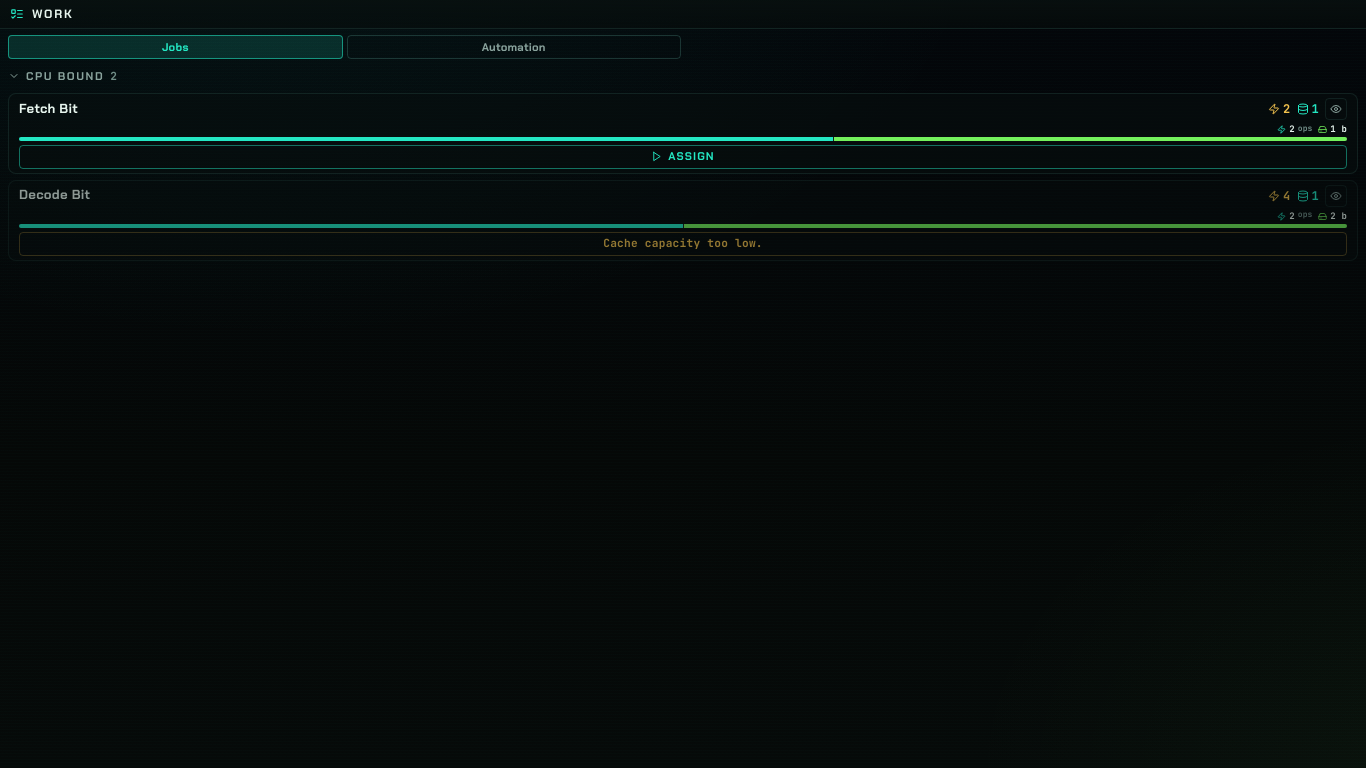
Scenario: WorkPanel › shows the status-only buffer readout and hides locked Live Ops in Automation
Click the tab with aria-label "Automation". click: (514,47)
box: left=346, top=35, right=681, bottom=59
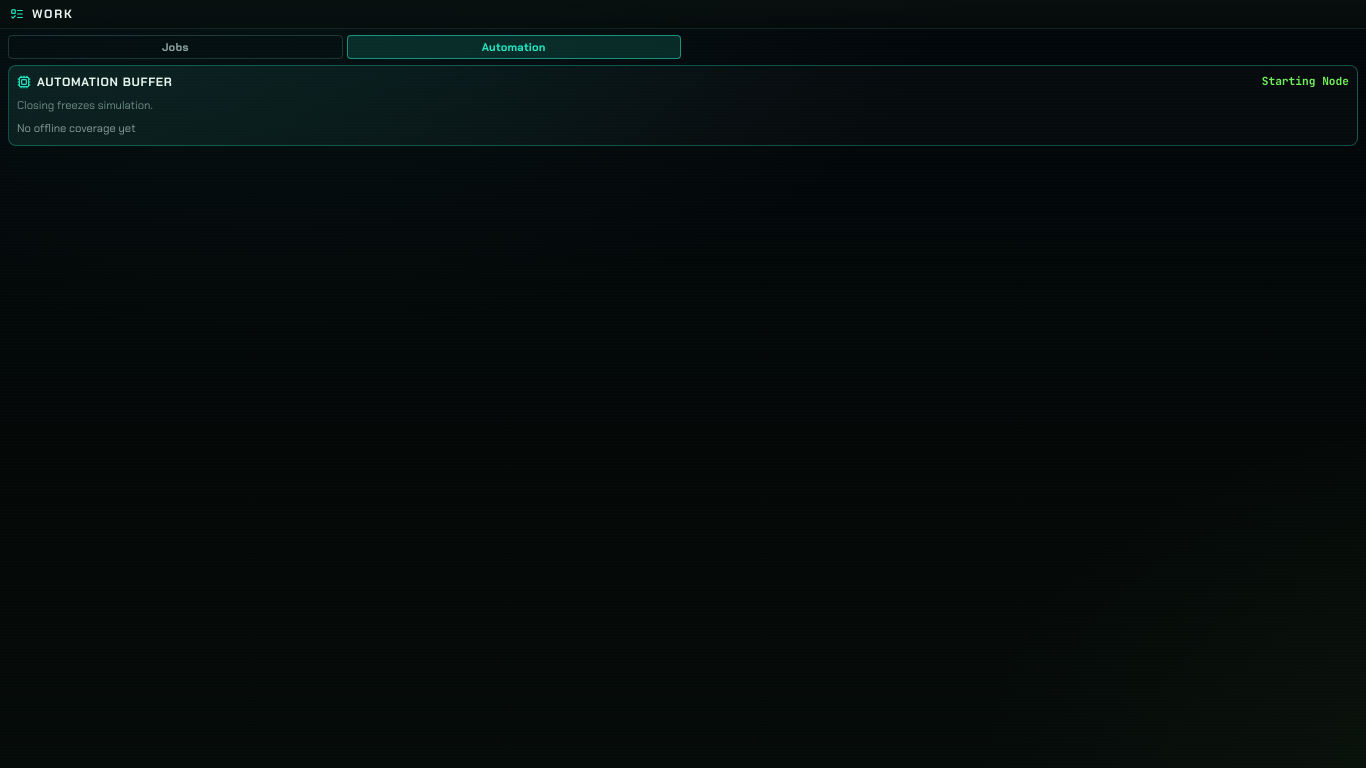
Now the element with class "automation-buffer-panel" shows "Automation Buffer", box left=37, top=74, right=173, bottom=90
Now the element with class "automation-buffer-panel" shows "Starting Node", box left=1262, top=75, right=1349, bottom=89
Now the button "CPU Bound 2" is gone
